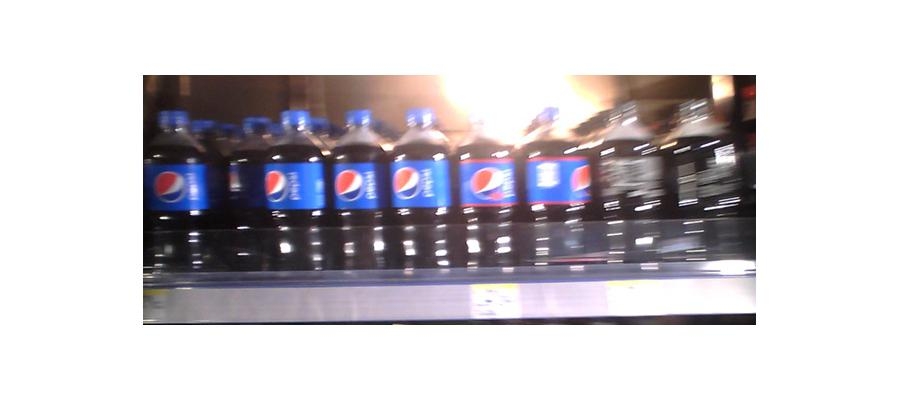bottle: (141, 107, 212, 262), (260, 108, 328, 259), (521, 118, 595, 254), (389, 104, 453, 255), (327, 111, 389, 256), (453, 129, 517, 259)
